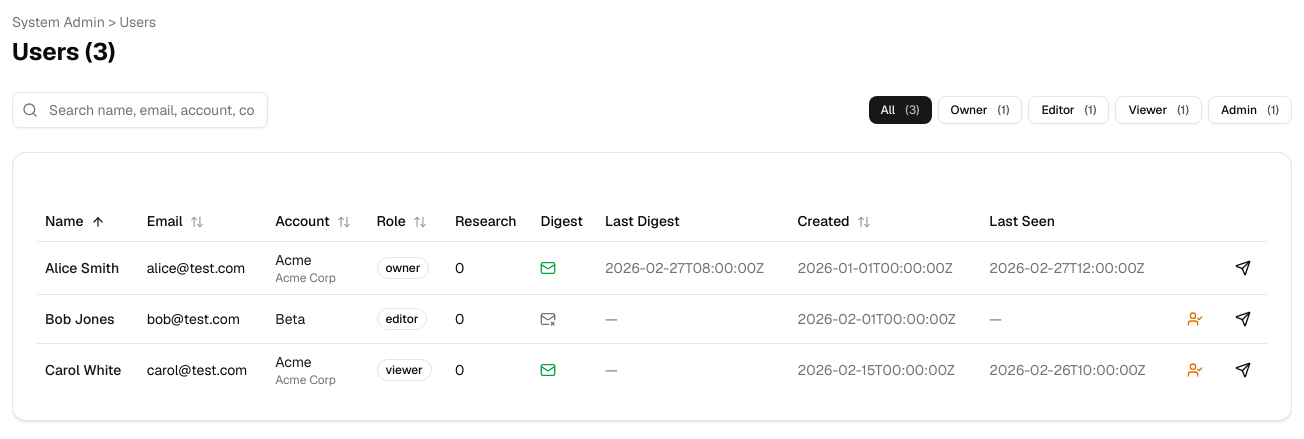
Test: UsersListPage › filters by role when clicking a filter button
expect the link "Alice Smith" is shown: met, box [45, 258, 119, 276]
Click the button "Editor (1)": [1069, 110] box [1028, 96, 1110, 124]
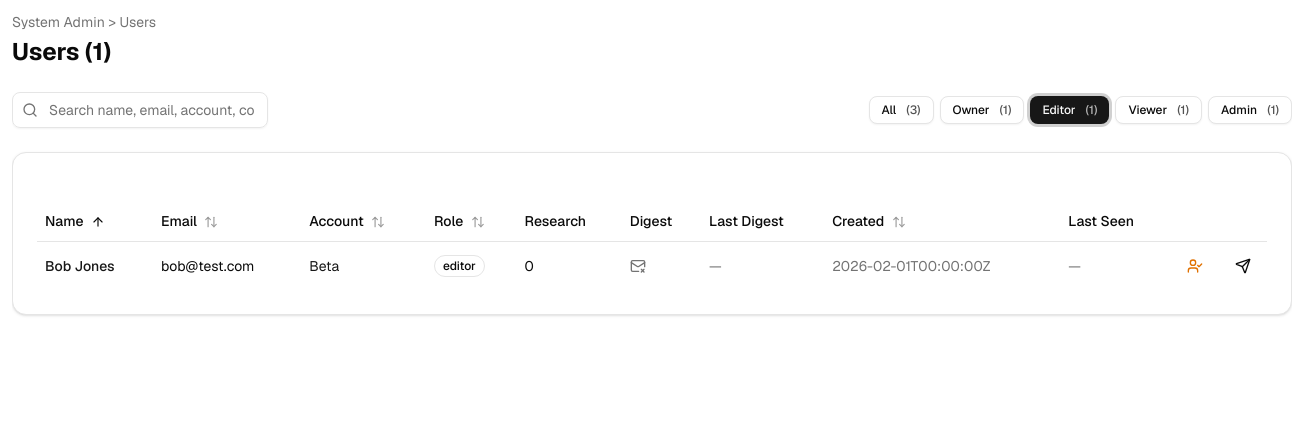
expect the link "Bob Jones" is shown: met, box [45, 256, 115, 274]
expect the link "Alice Smith" is gone: met
expect the link "Carol White" is gone: met
